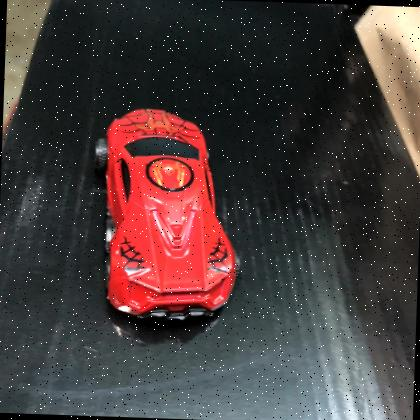Car: (105, 110, 239, 322)
